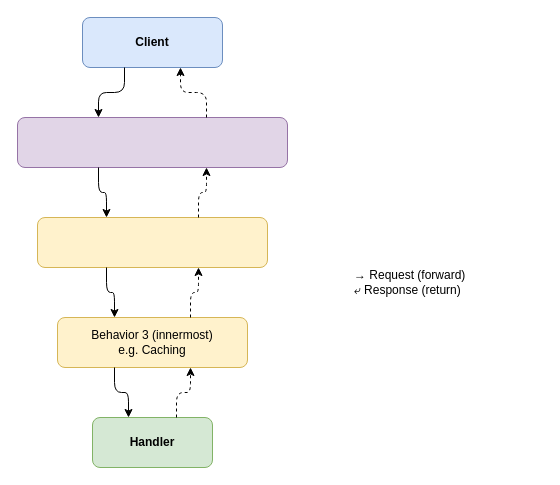
The diagram is 560 pixels wide and 485 high, and some of its shapes have lost their labels. The centre of each missing label's shape, as x and y in pixels:
"Behavior 1 (outermost) e.g. Logging" belongs at point 152,142.
"Behavior 2 e.g. Validation" belongs at point 152,242.
